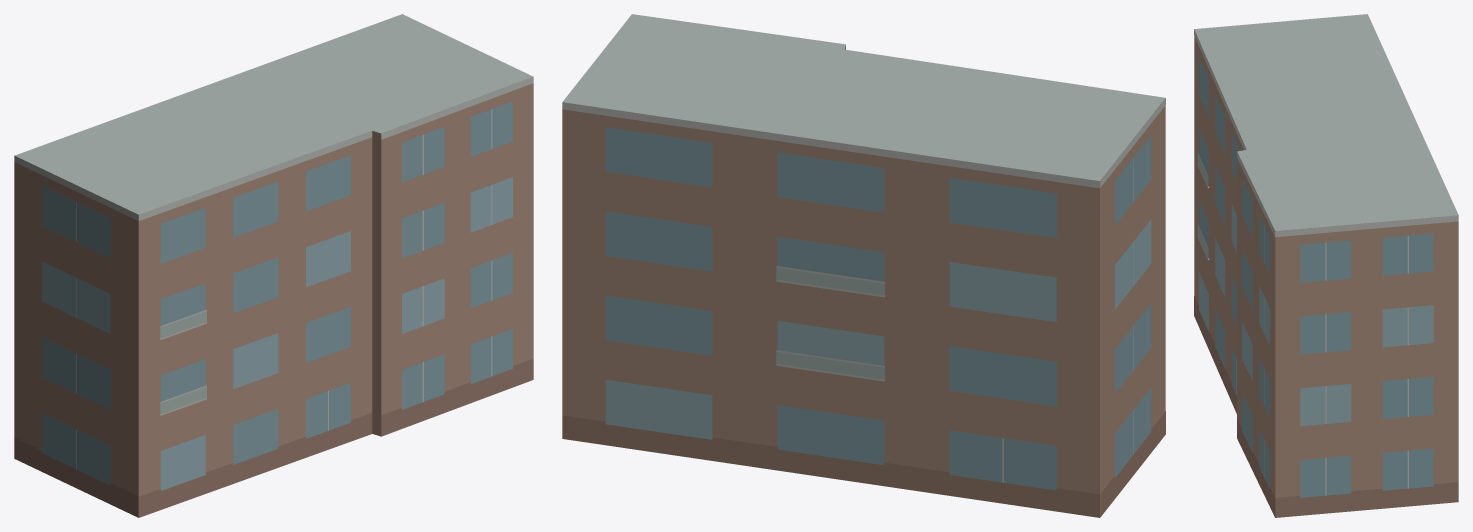
File: survey-upis-32761909.glb
3 views of the same model, side by side, from view 1: azimuth 30°, elevation 25°; view 2: azimuth 150°, elevation 25°; view 3: azimuth 270°, elevation 25° (orthographic). The views are drawn at different scales.
Parts seen in each view (by area): view 1: survey-upis-32761909.tmp; view 2: survey-upis-32761909.tmp; view 3: survey-upis-32761909.tmp.
Part boxes in pixels (left/top/right/bottom): survey-upis-32761909.tmp: left=14, top=14, right=533, bottom=517; survey-upis-32761909.tmp: left=562, top=14, right=1165, bottom=517; survey-upis-32761909.tmp: left=1194, top=14, right=1458, bottom=517.
Size of the model in its own units: 18.68 by 11.5 by 9.63.
